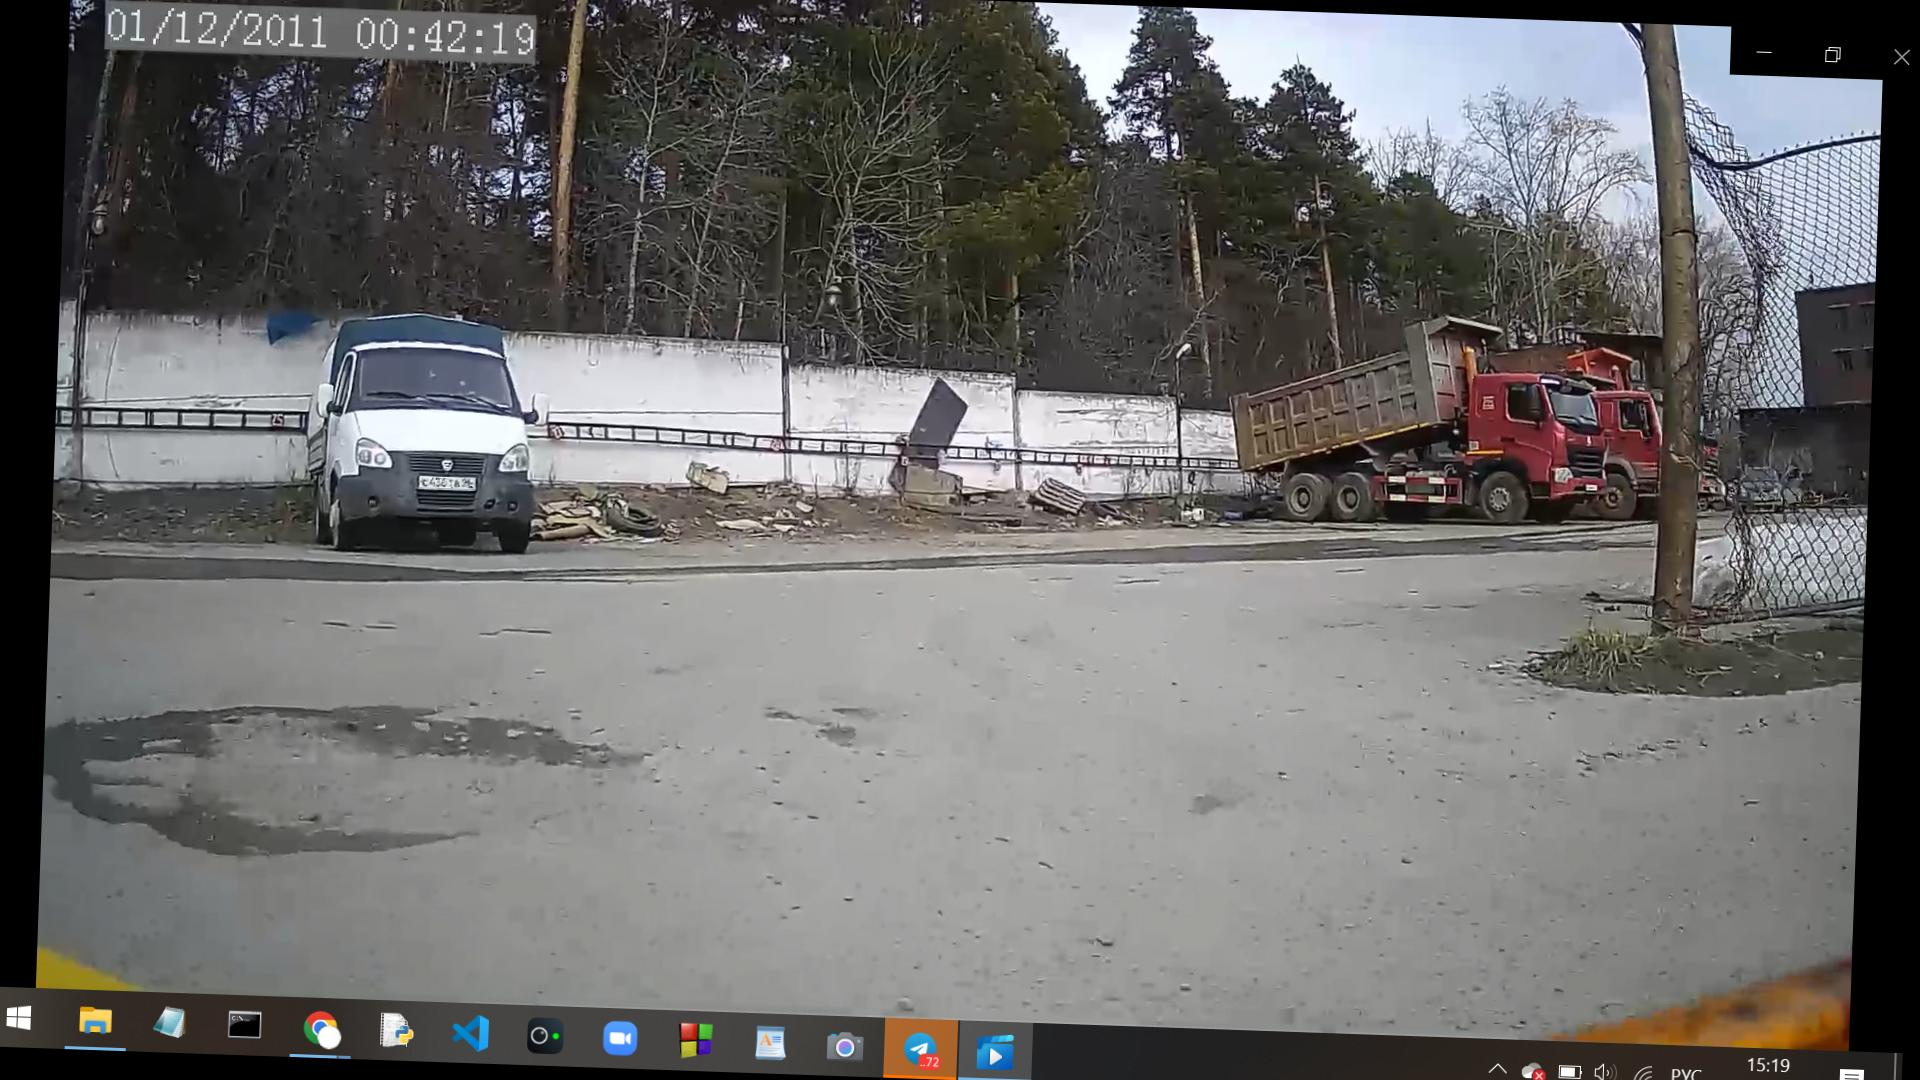plate: (422, 478, 476, 492)
